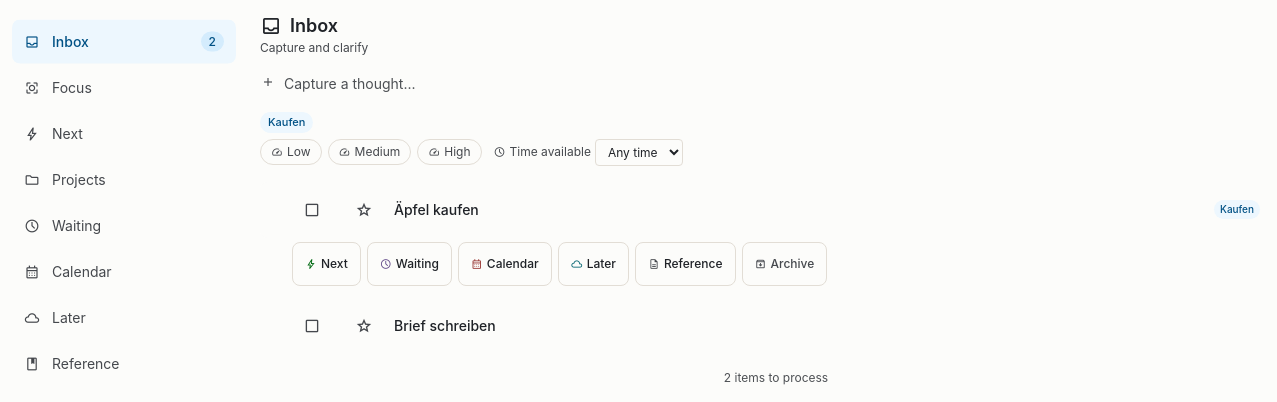
BucketView – type filter chips › clicking active type chip again clears the filter
Click the button with aria-label "Filter by type: Kaufen". click: (287, 122)
box: [260,112,313,132]
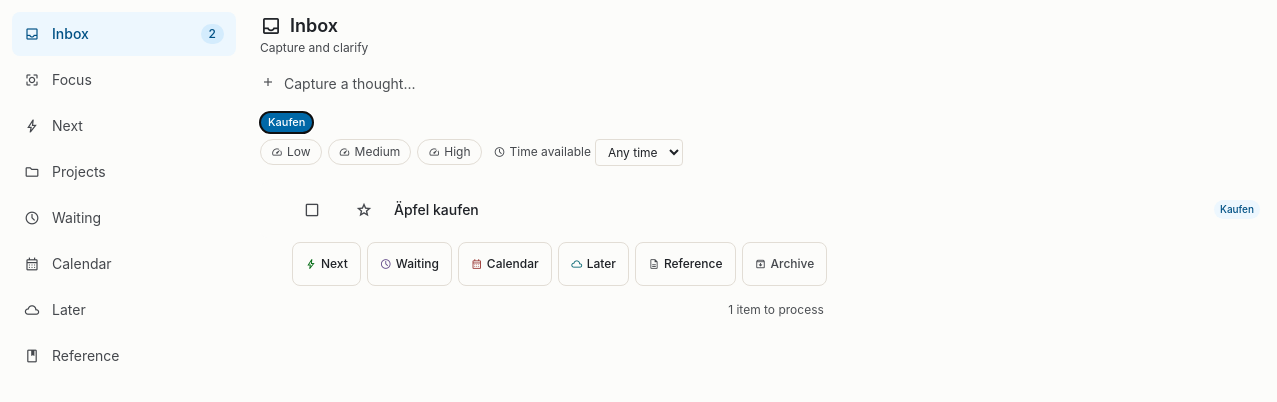
Expected: the button "Brief schreiben" is gone
Click the button with aria-label "Filter by type: Kaufen". click: (287, 122)
box: [260,112,313,132]
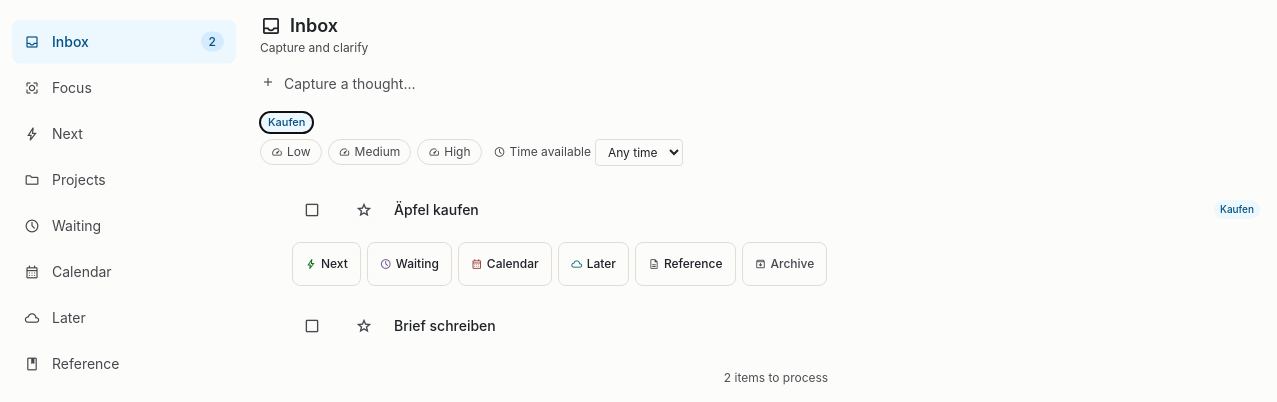
Expected: the button "Brief schreiben" is shown, [394,316,1212,336]
